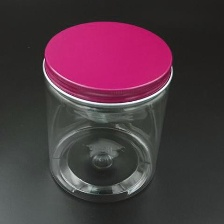plastic_box: (34, 15, 178, 209)
